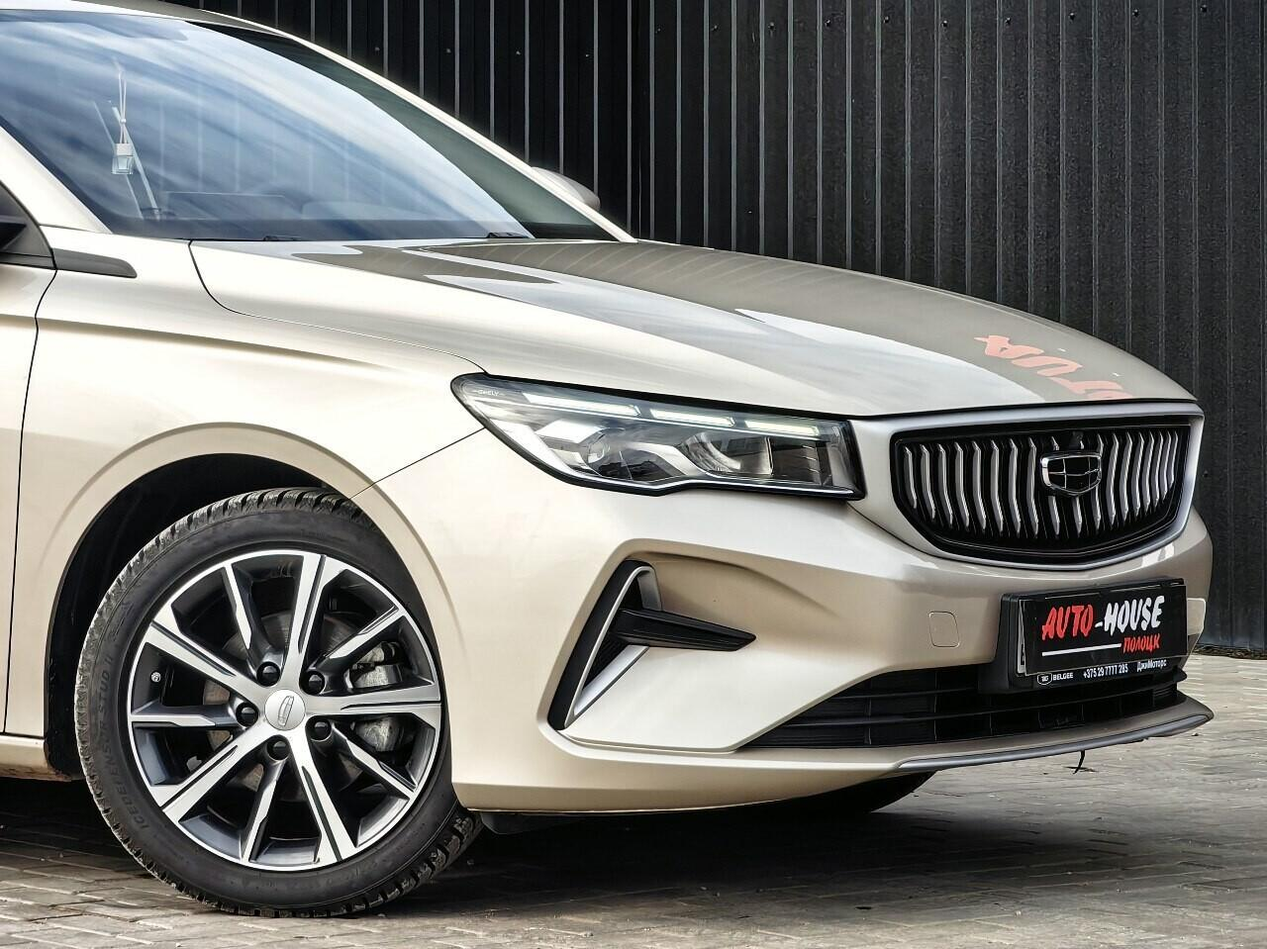Emgrand_2021: (0, 0, 1219, 930)
